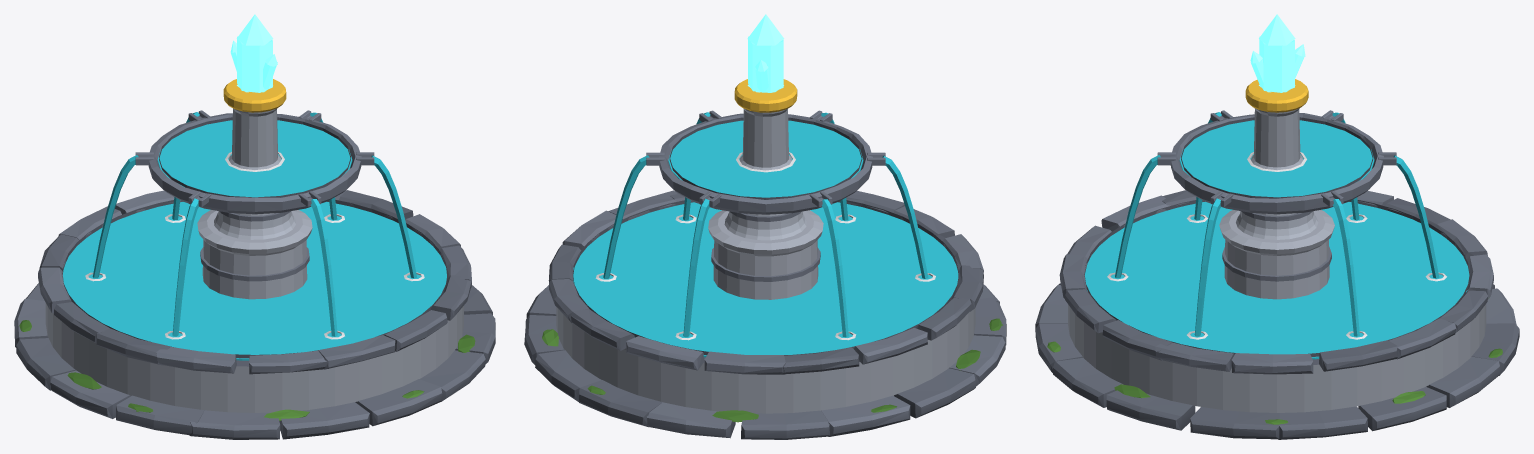
The model's file is fountain.fbx.
The picture shows the model from 3 angles, left to right: view 1: azimuth 30°, elevation 25°; view 2: azimuth 150°, elevation 25°; view 3: azimuth 270°, elevation 25°; orthographic projection.
Parts seen in each view (by area): view 1: fountain_DarkStone, fountain_LowerWater, fountain_Wall, fountain_UpperWater, fountain_Pedestal, fountain_Stream, fountain_Crystal_Glow, fountain_Wet, fountain_Column, fountain_Gold, fountain_Moss, fountain_Foam; view 2: fountain_DarkStone, fountain_LowerWater, fountain_Wall, fountain_UpperWater, fountain_Pedestal, fountain_Stream, fountain_Crystal_Glow, fountain_Wet, fountain_Column, fountain_Gold, fountain_Moss, fountain_Foam; view 3: fountain_DarkStone, fountain_LowerWater, fountain_Wall, fountain_UpperWater, fountain_Pedestal, fountain_Stream, fountain_Crystal_Glow, fountain_Wet, fountain_Column, fountain_Gold, fountain_Moss, fountain_Foam.
Boxes of the visible parts, x1,y1,x2,y2 form: fountain_DarkStone: (14,110,495,439); fountain_LowerWater: (63,201,446,360); fountain_Wall: (45,303,463,412); fountain_UpperWater: (157,120,352,197); fountain_Pedestal: (197,108,312,299); fountain_Stream: (92,112,416,336); fountain_Crystal_Glow: (230,14,277,92); fountain_Wet: (62,117,447,366); fountain_Column: (214,211,295,239); fountain_Gold: (223,79,286,112); fountain_Moss: (19,320,475,420); fountain_Foam: (85,152,424,339); fountain_DarkStone: (524,110,1006,439); fountain_LowerWater: (573,202,958,357); fountain_Wall: (556,307,975,413); fountain_UpperWater: (668,120,863,197); fountain_Pedestal: (708,108,823,299); fountain_Stream: (603,112,928,337); fountain_Crystal_Glow: (747,14,784,92); fountain_Wet: (573,117,958,362); fountain_Column: (724,211,806,240); fountain_Gold: (734,79,797,112); fountain_Moss: (542,318,1002,422); fountain_Foam: (595,152,935,340); fountain_DarkStone: (1035,110,1519,439); fountain_LowerWater: (1085,201,1469,359); fountain_Wall: (1068,304,1486,412); fountain_UpperWater: (1179,120,1374,197); fountain_Pedestal: (1219,108,1334,299); fountain_Stream: (1115,112,1439,336); fountain_Crystal_Glow: (1250,14,1305,92); fountain_Wet: (1084,117,1469,364); fountain_Column: (1236,211,1318,239); fountain_Gold: (1245,79,1308,112); fountain_Moss: (1047,341,1502,424); fountain_Foam: (1107,152,1446,339).
Size of the model in its own units: 30.06 by 22.33 by 30.1.
